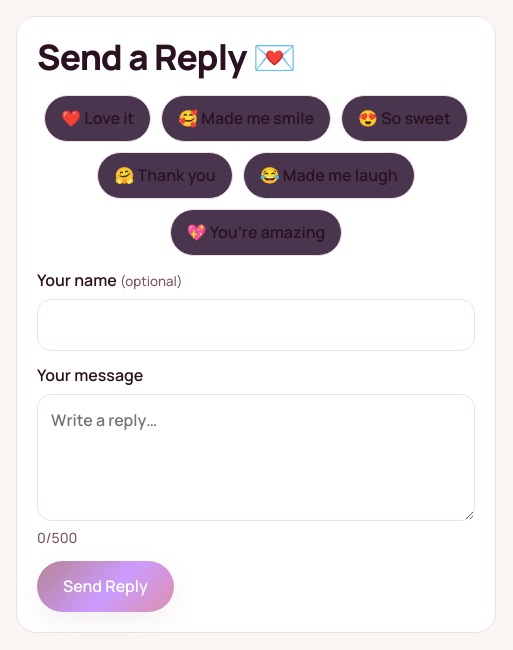
ReplyForm (Part C: recipient reply UI) › the Send Reply button stays disabled until a message is written
Check: the button "Send Reply" is disabled, box [37,561,174,612]
Type "Thank you!" into the text box labelled "Your message" at (256,458), box [37,394,475,522]
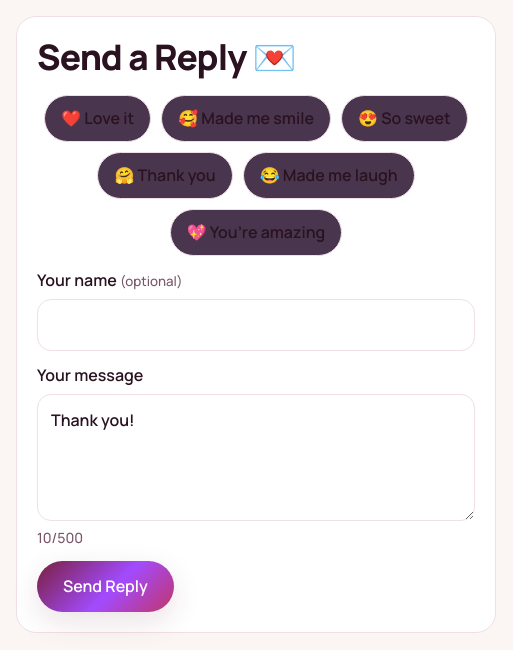
Check: the button "Send Reply" is enabled, box [37,561,174,612]
